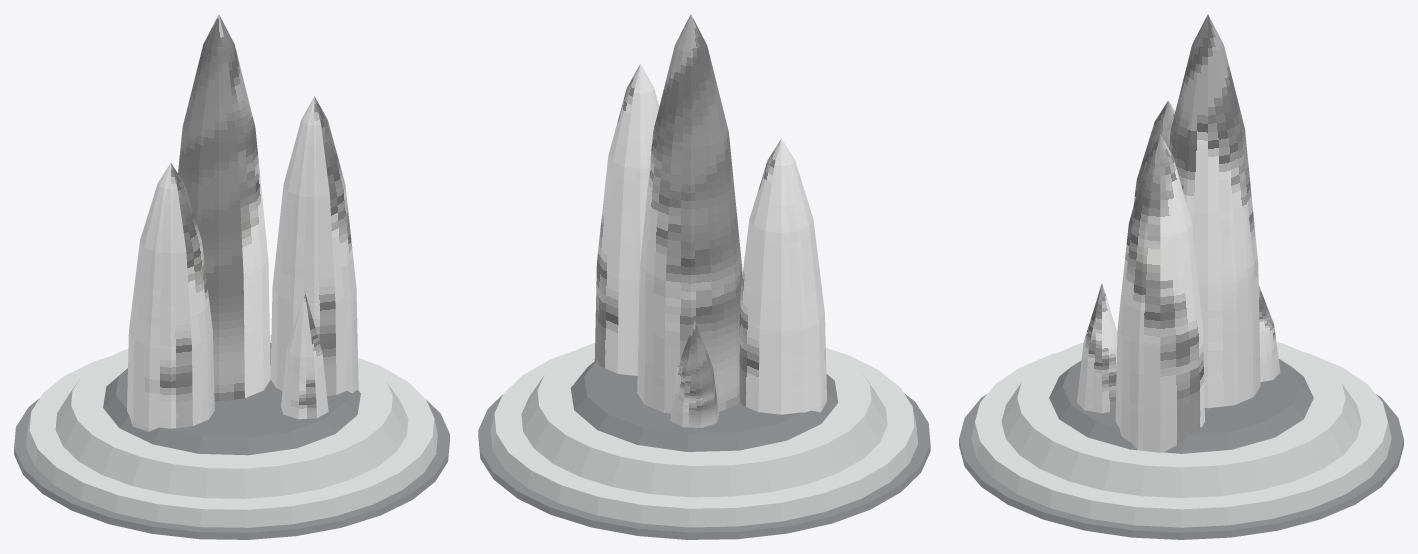
The model's file is Building_SculptureLarge__E.glb.
3 views of the same model, side by side, from view 1: azimuth 30°, elevation 25°; view 2: azimuth 150°, elevation 25°; view 3: azimuth 270°, elevation 25° (orthographic). The views are drawn at different scales.
Parts seen in each view (by area): view 1: SculptureLarge__E; view 2: SculptureLarge__E; view 3: SculptureLarge__E.
Boxes of the visible parts, left/top/right/bottom form: SculptureLarge__E: left=14, top=14, right=449, bottom=539; SculptureLarge__E: left=478, top=14, right=930, bottom=539; SculptureLarge__E: left=959, top=14, right=1403, bottom=539.
Size of the model in its own units: 1.68 by 1.8 by 1.68.
1 material, 1 textured.
